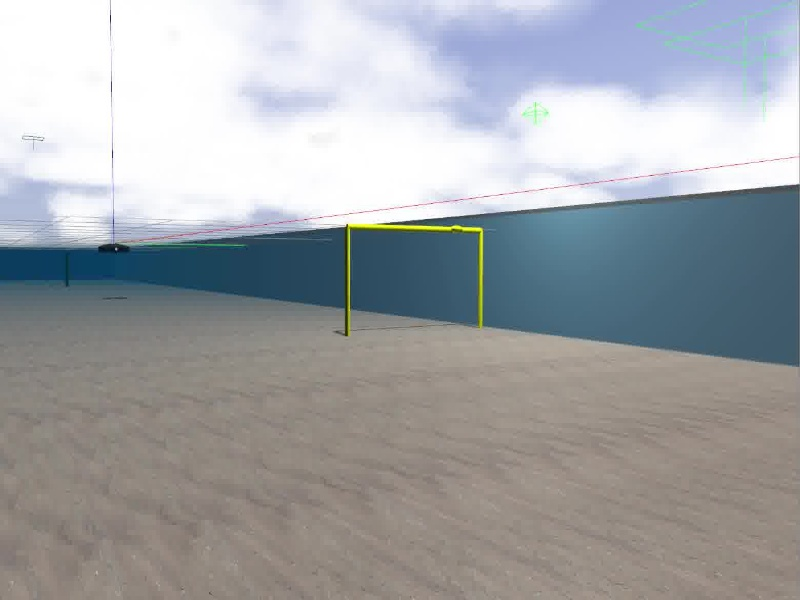gate: (340, 222, 485, 339)
